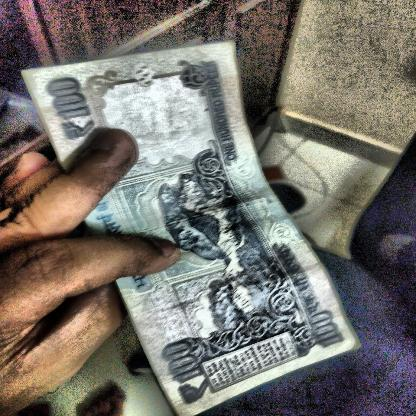Rs100: (152, 336, 219, 410), (40, 73, 102, 145), (301, 306, 349, 352)
